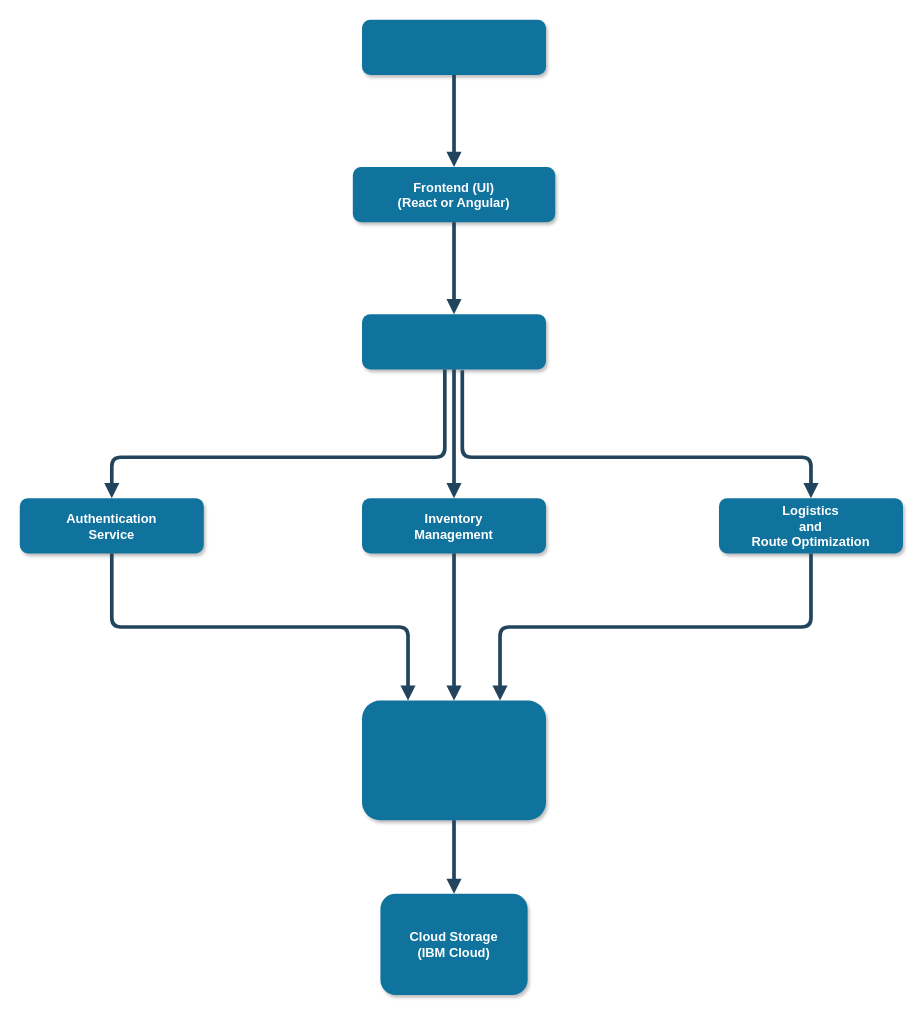
The diagram is 924 pixels wide and 1017 high, and some of its shapes have lost their labels. Here are the shapes that lost their labels. From the top down, the centre of each, then its label:
At (454,48): "User Device".
At (454,342): "Backend API (Node.js, Express)".
At (454,761): "Database (MongoDB or PostgreSQL)".
